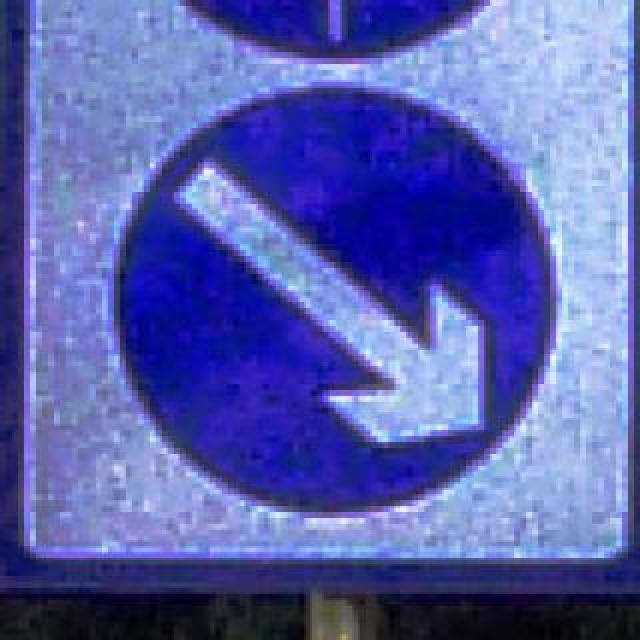keep right: (54, 64, 604, 518)
